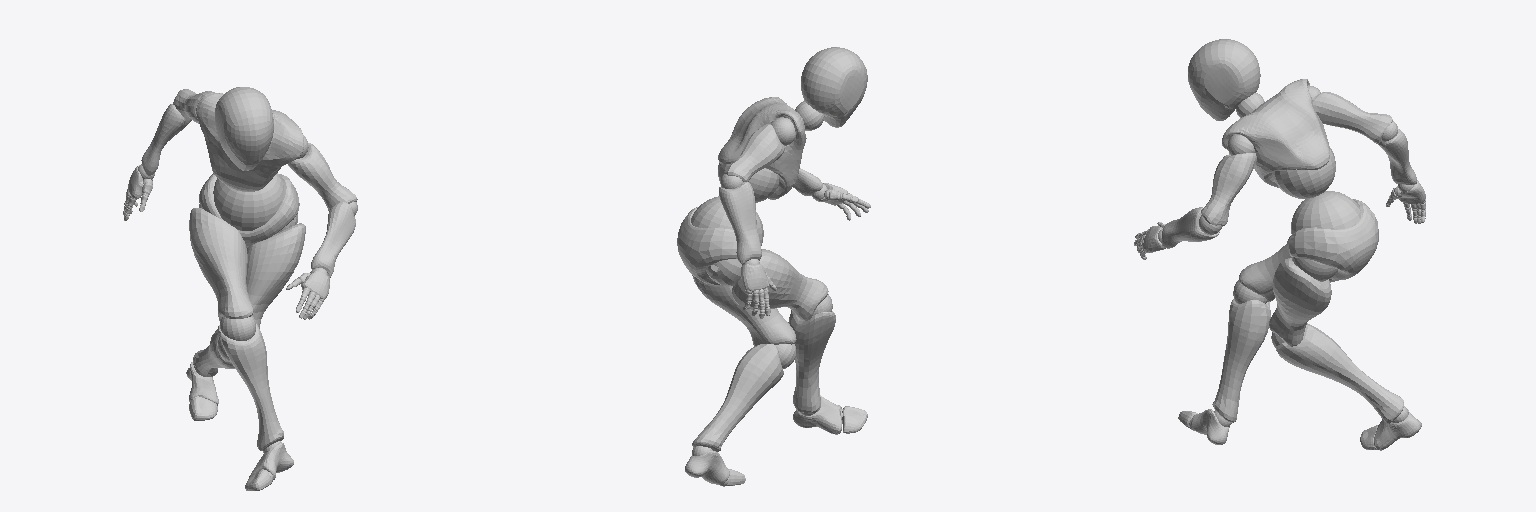
3 views of the same model, side by side, from view 1: azimuth 30°, elevation 25°; view 2: azimuth 150°, elevation 25°; view 3: azimuth 270°, elevation 25° (orthographic).
Parts seen in each view (by area): view 1: Beta_Surface, Beta_Joints; view 2: Beta_Surface, Beta_Joints; view 3: Beta_Surface, Beta_Joints.
Boxes of the visible parts, x1=… form: Beta_Surface: x1=123, y1=87, x2=357, y2=490; Beta_Joints: x1=123, y1=97, x2=357, y2=481; Beta_Surface: x1=677, y1=47, x2=870, y2=485; Beta_Joints: x1=691, y1=101, x2=865, y2=486; Beta_Surface: x1=1134, y1=39, x2=1425, y2=450; Beta_Joints: x1=1135, y1=85, x2=1425, y2=430.
Bounding box in the file's own units: 0.5152 × 1.44 × 0.9758.